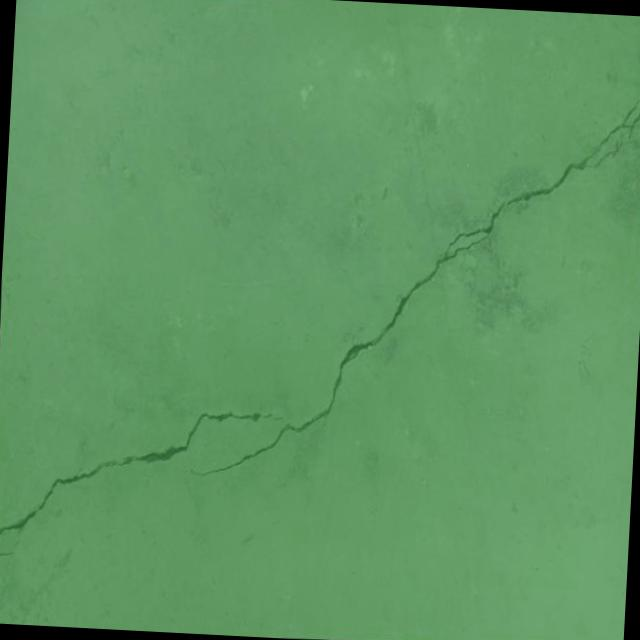crack: (182, 74, 640, 499), (0, 397, 285, 552), (0, 541, 19, 562)
